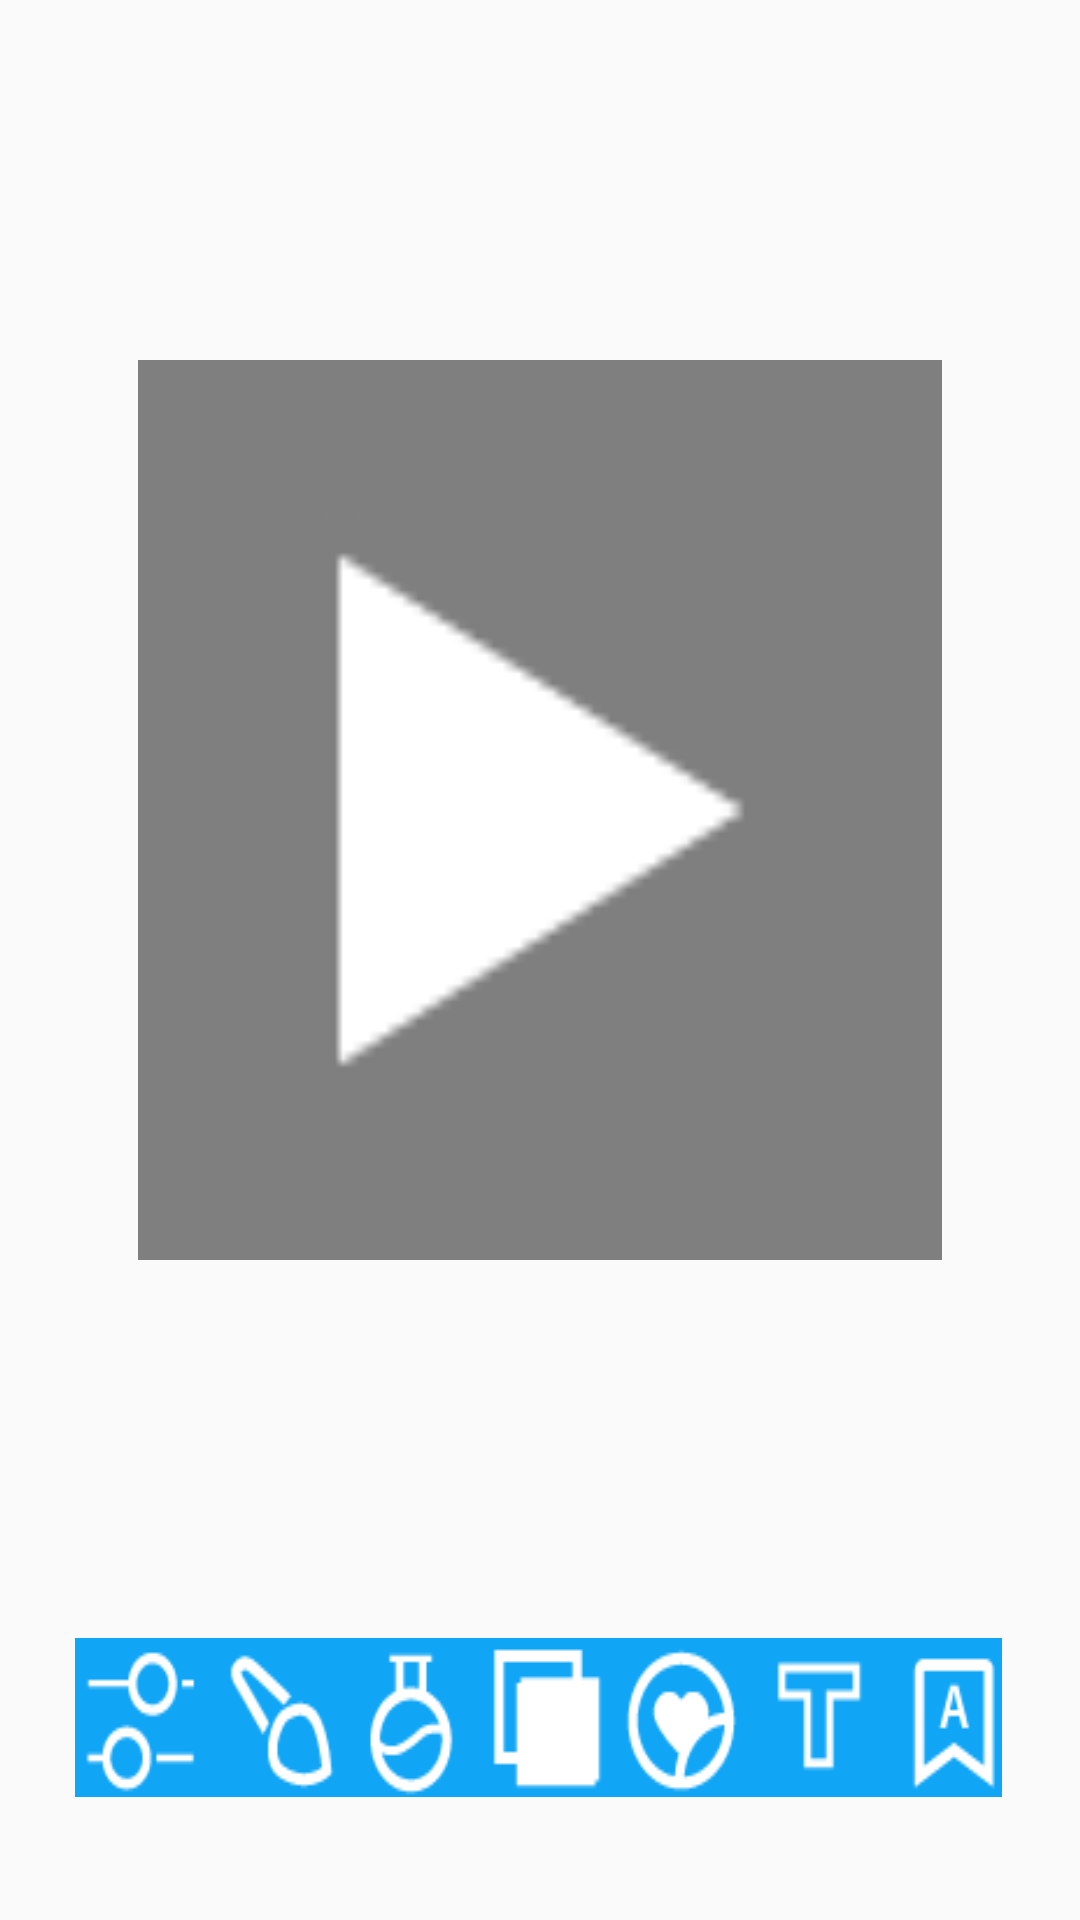

Screen size 1080*1920. Icon name, then its box in pixels as (x1, y1, x2, y2):
adjustments: (86, 1652, 195, 1792)
brush: (230, 1655, 334, 1788)
filter: (370, 1653, 453, 1794)
overlays: (493, 1649, 601, 1788)
stickers: (626, 1650, 736, 1791)
text: (777, 1661, 862, 1770)
